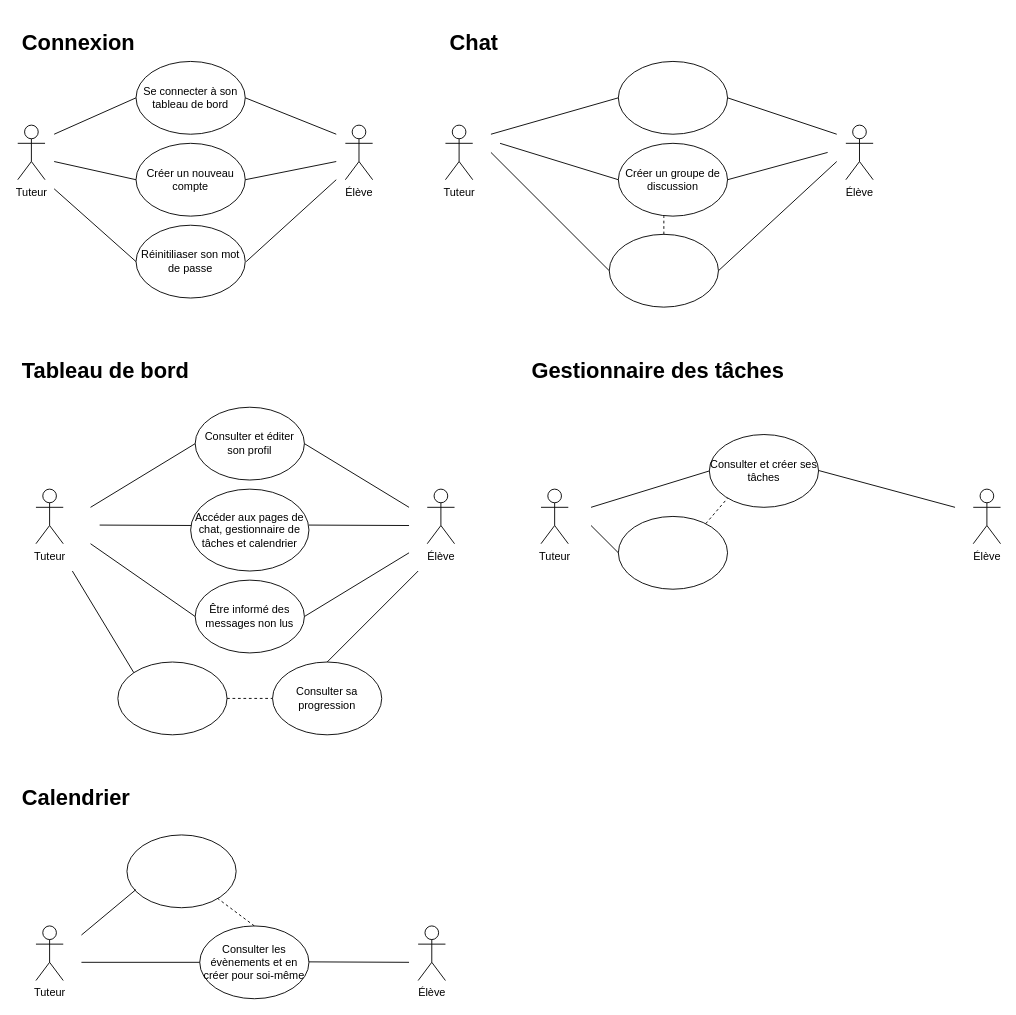
Some shapes in this 1016 by 1015 pixel diagram are drawn without their labels. Each missing label, with the box of its shape:
Consulter et envoyer des messages: (617, 61, 728, 134)
Consulter la progression d'un élève: (117, 661, 227, 735)
Créer un évènement pour un élève: (126, 834, 236, 908)
Créer une tâche pour un élève: (617, 516, 728, 589)
Inviter dans un groupe de discussion: (608, 233, 718, 307)
